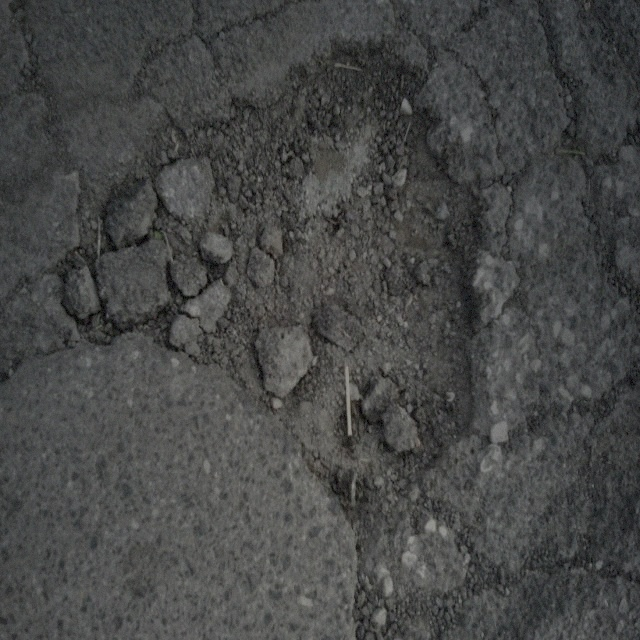pothole: (134, 44, 497, 530)
